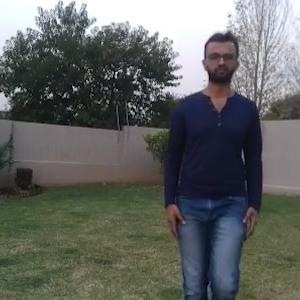follow: (170, 42, 253, 299)
